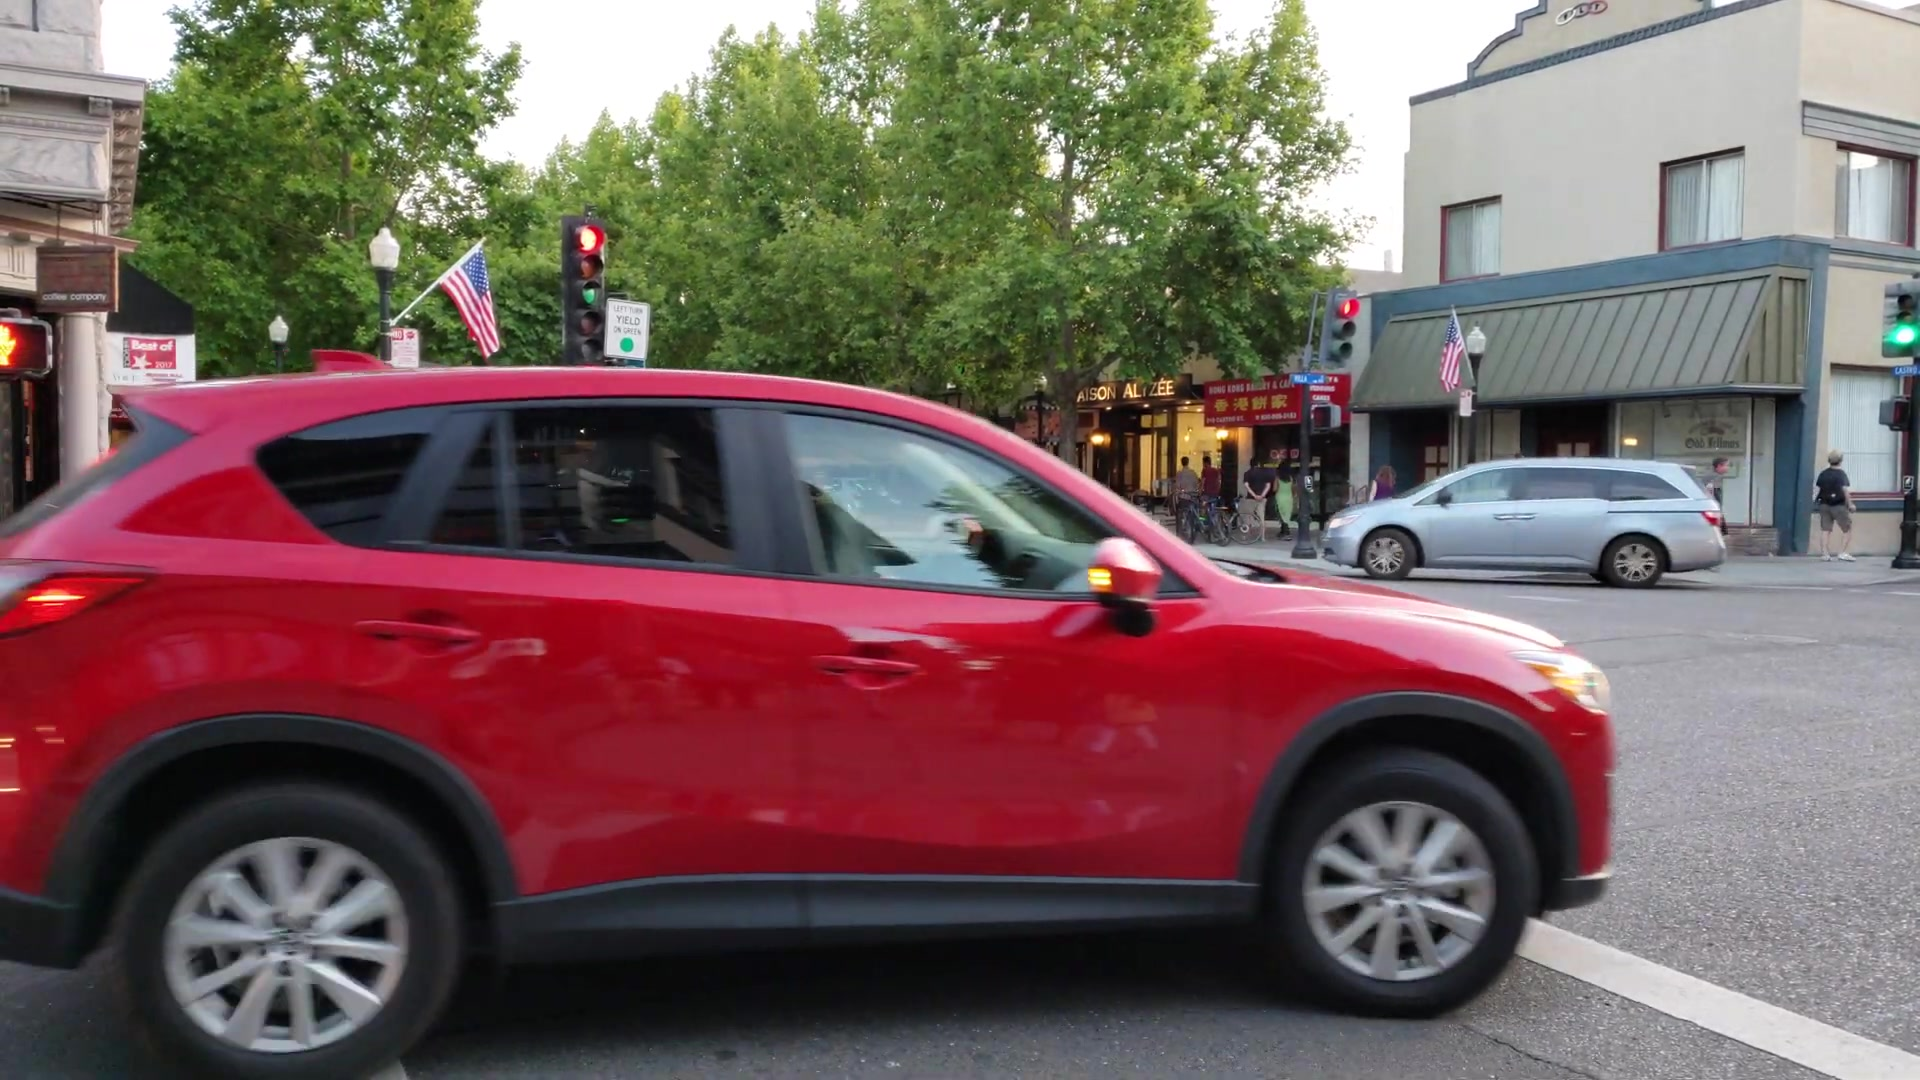vehicle: (1, 364, 1614, 1036), (1321, 451, 1724, 582)
